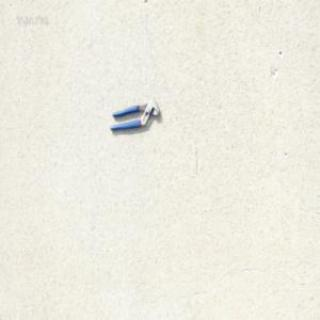Pliertrack_idkeyframe: (108, 99, 160, 133)
